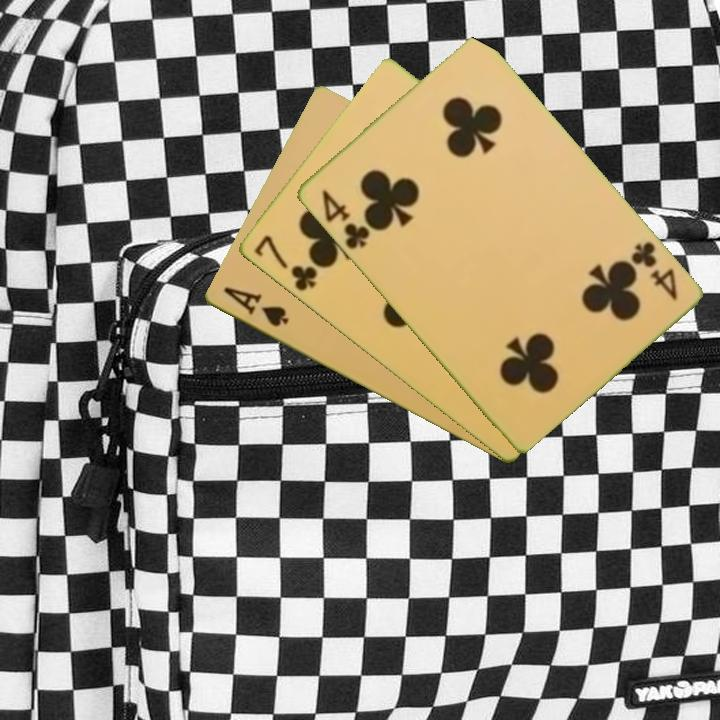4c: (317, 186, 372, 253), (626, 237, 680, 303)
7c: (249, 231, 320, 294)
As: (219, 283, 291, 330)
